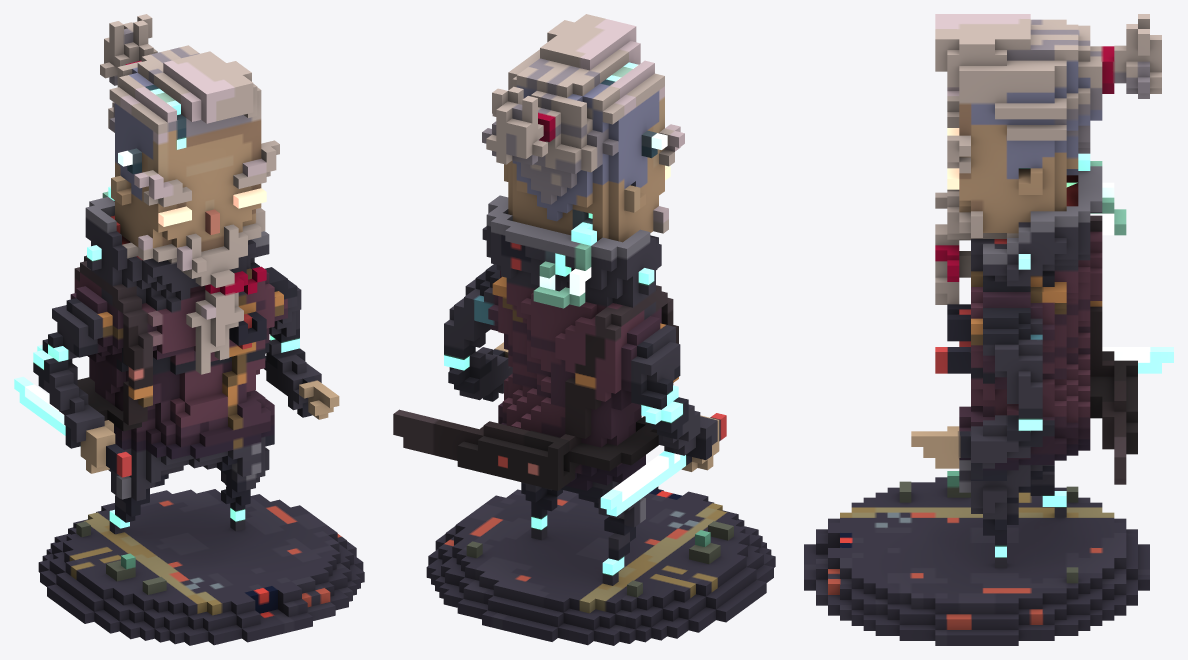
The model's file is baked.glb.
The picture shows the model from 3 angles, left to right: view 1: azimuth 30°, elevation 25°; view 2: azimuth 150°, elevation 25°; view 3: azimuth 270°, elevation 25°; orthographic projection. The views are drawn at different scales.
Parts seen in each view (by area): view 1: copy; view 2: copy; view 3: copy.
Part boxes in pixels (box(x1,y1,x2,y2)): copy: box(14, 14, 364, 645); copy: box(393, 14, 775, 645); copy: box(804, 14, 1173, 645).
Size of the model in its own units: 2.9 by 5.1 by 3.1.
4 materials, 4 textured.
